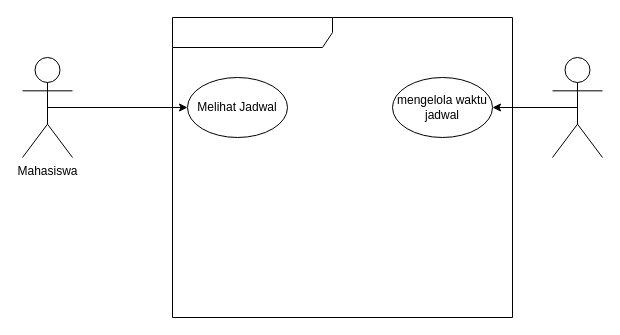
Image size: 620x335. Some labels were removed from this diagram. Here are the shapes that lost their labels. From the top down, the box of each, then its label:
(552, 56, 602, 158): dosen
(172, 16, 512, 318): Sistem Informasi Akademik
